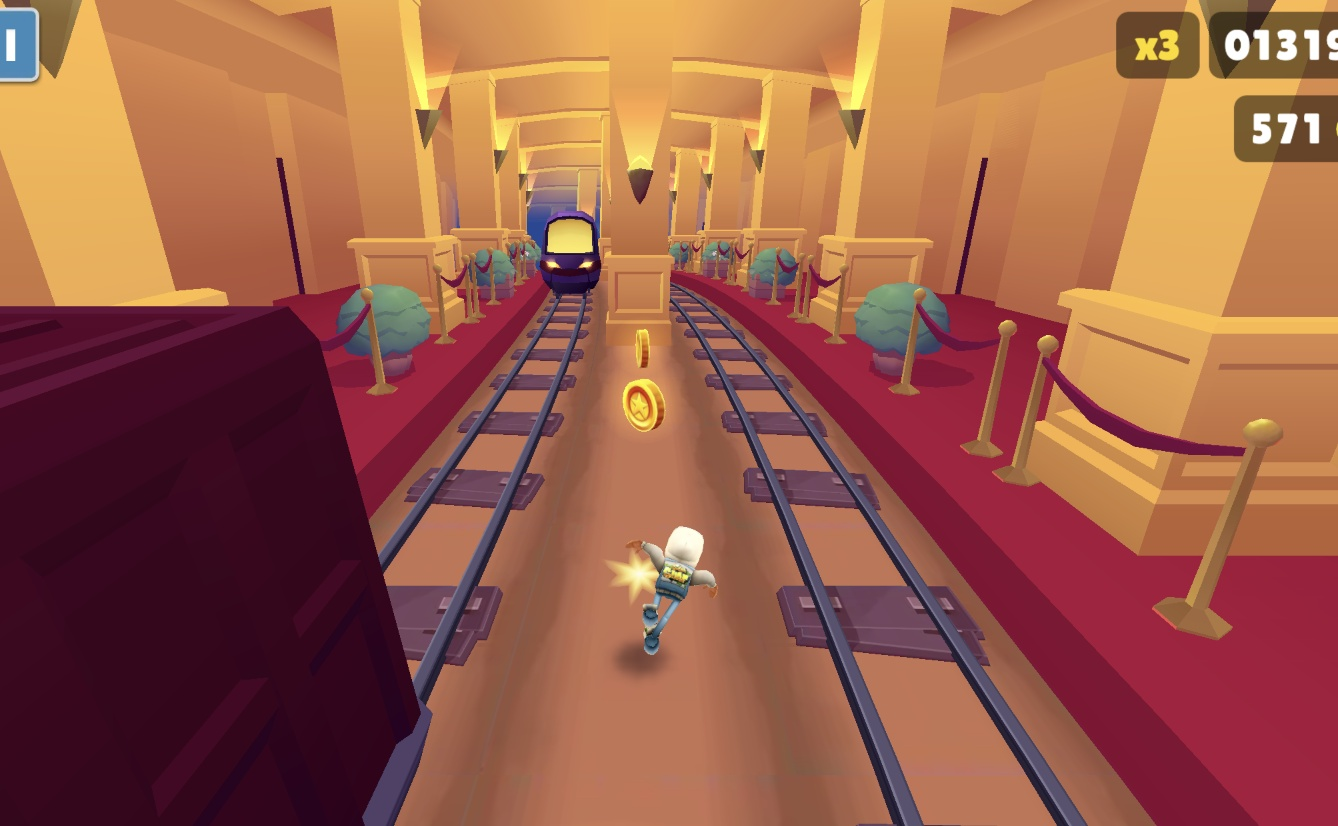pillar: (594, 0, 671, 349)
train: (0, 287, 434, 826), (529, 207, 597, 294)
